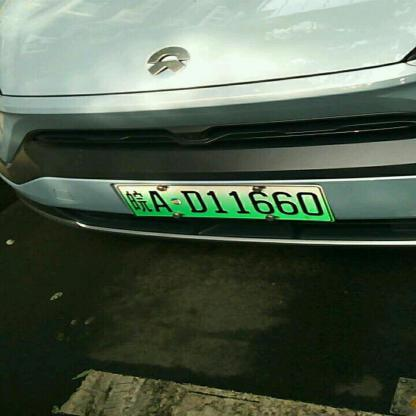lp: (114, 186, 333, 219)
